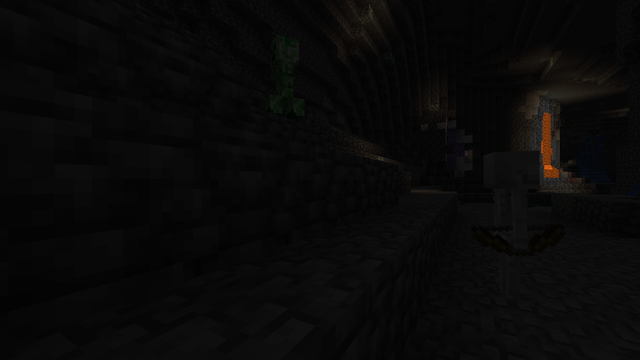creepers: (264, 28, 302, 119)
squelettes: (483, 150, 541, 308)
